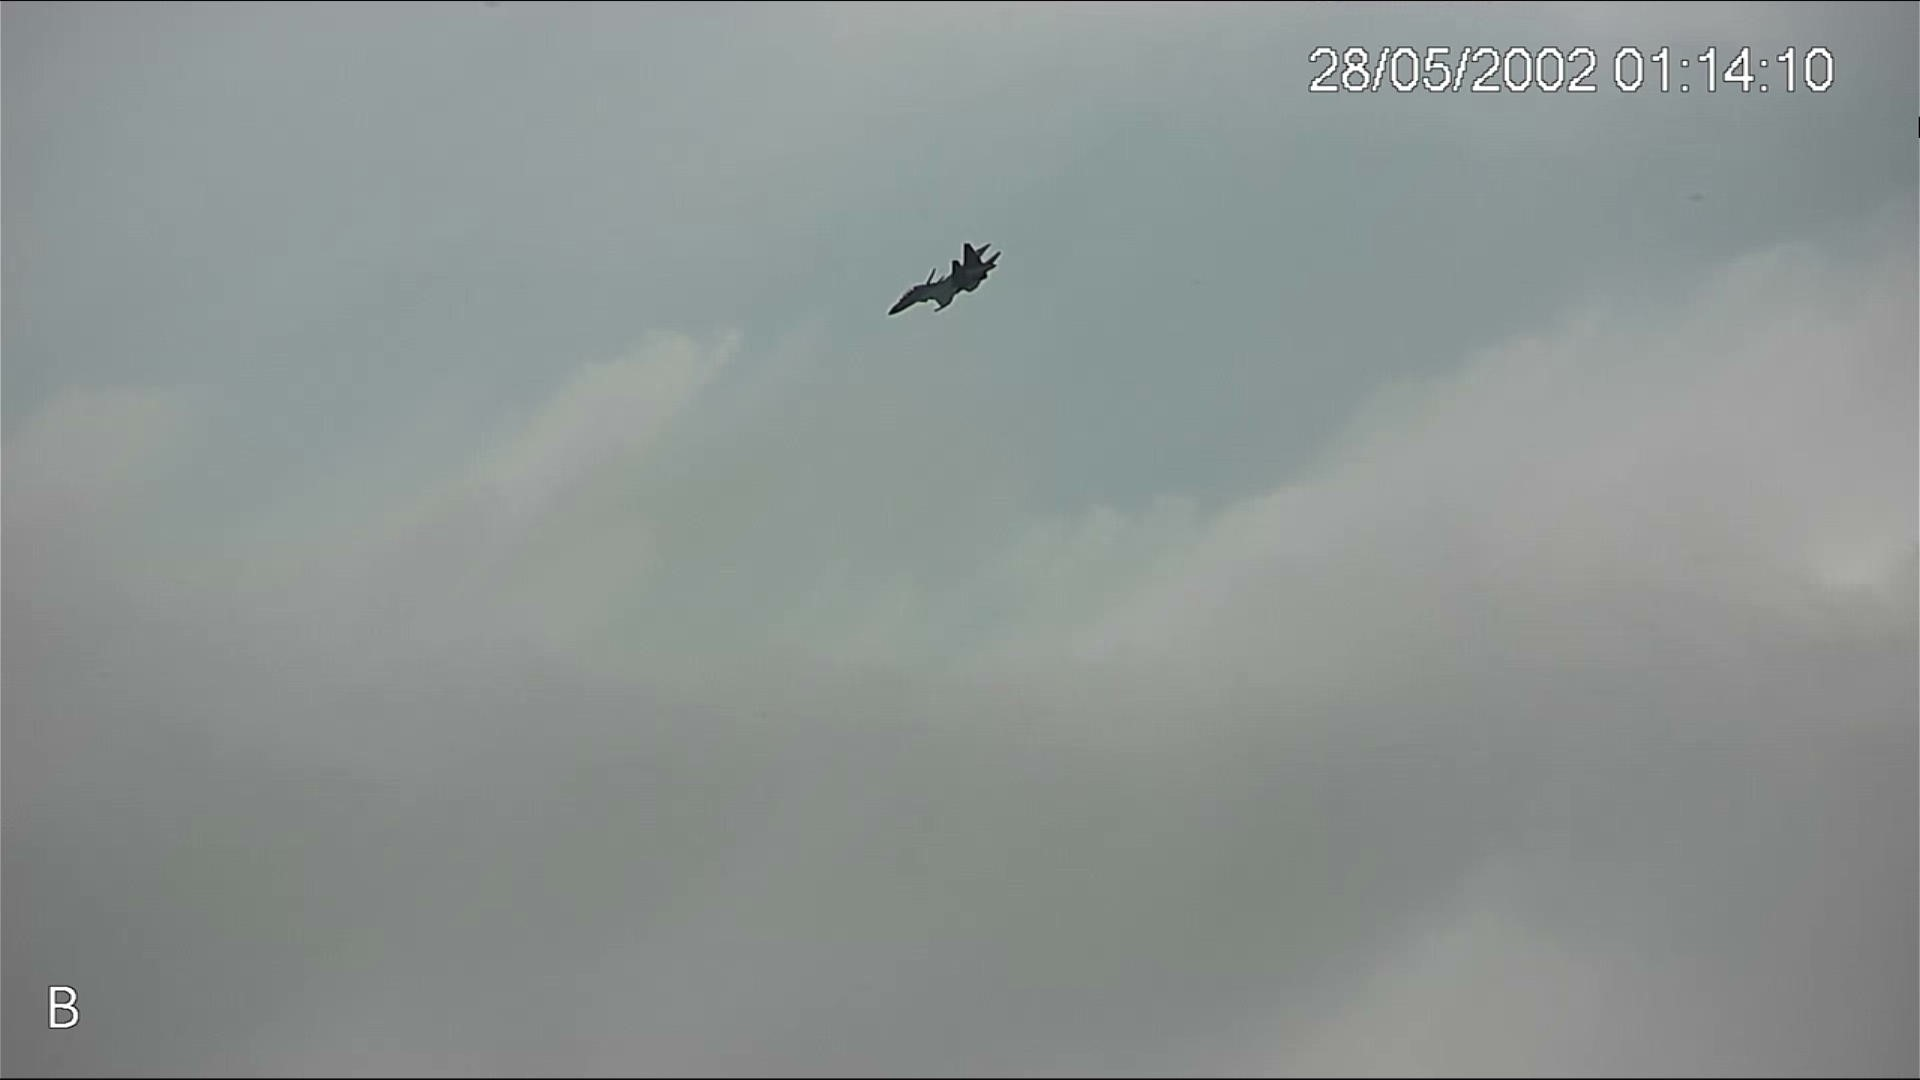SU_30: (878, 245, 1001, 322)
